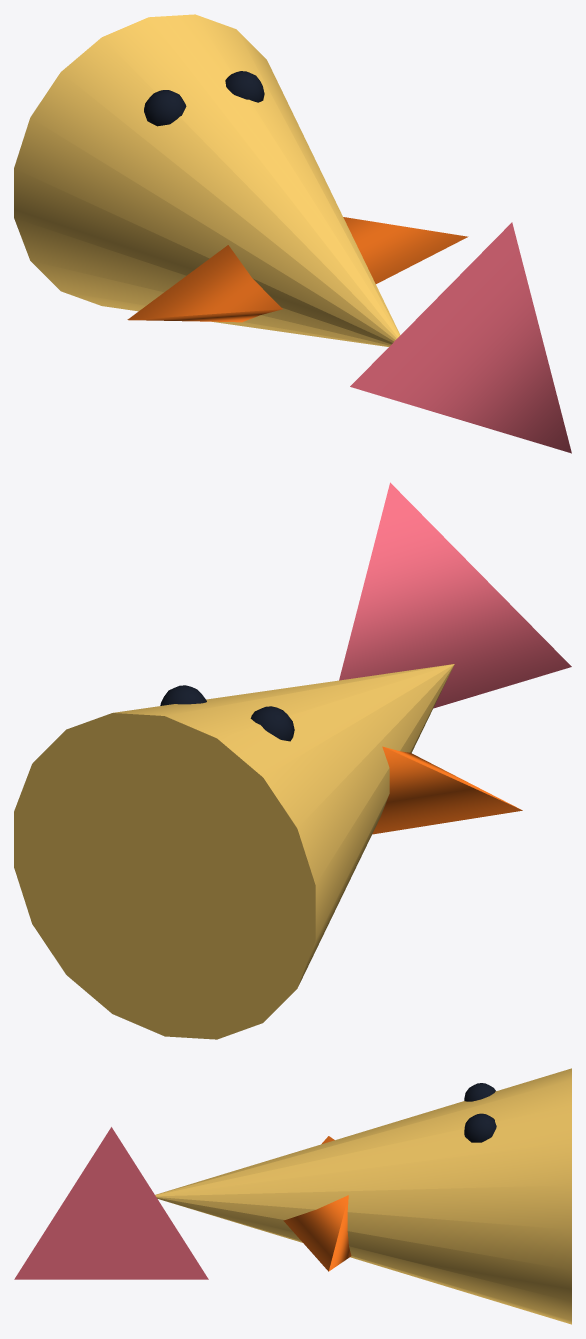
Rendered from fish.glb.
3 views of the same model, one above another, from view 1: azimuth 30°, elevation 25°; view 2: azimuth 150°, elevation 25°; view 3: azimuth 270°, elevation 25° (orthographic). The views are drawn at different scales.
Bounding box in the file's own units: 0.8 × 0.64 × 1.39.
